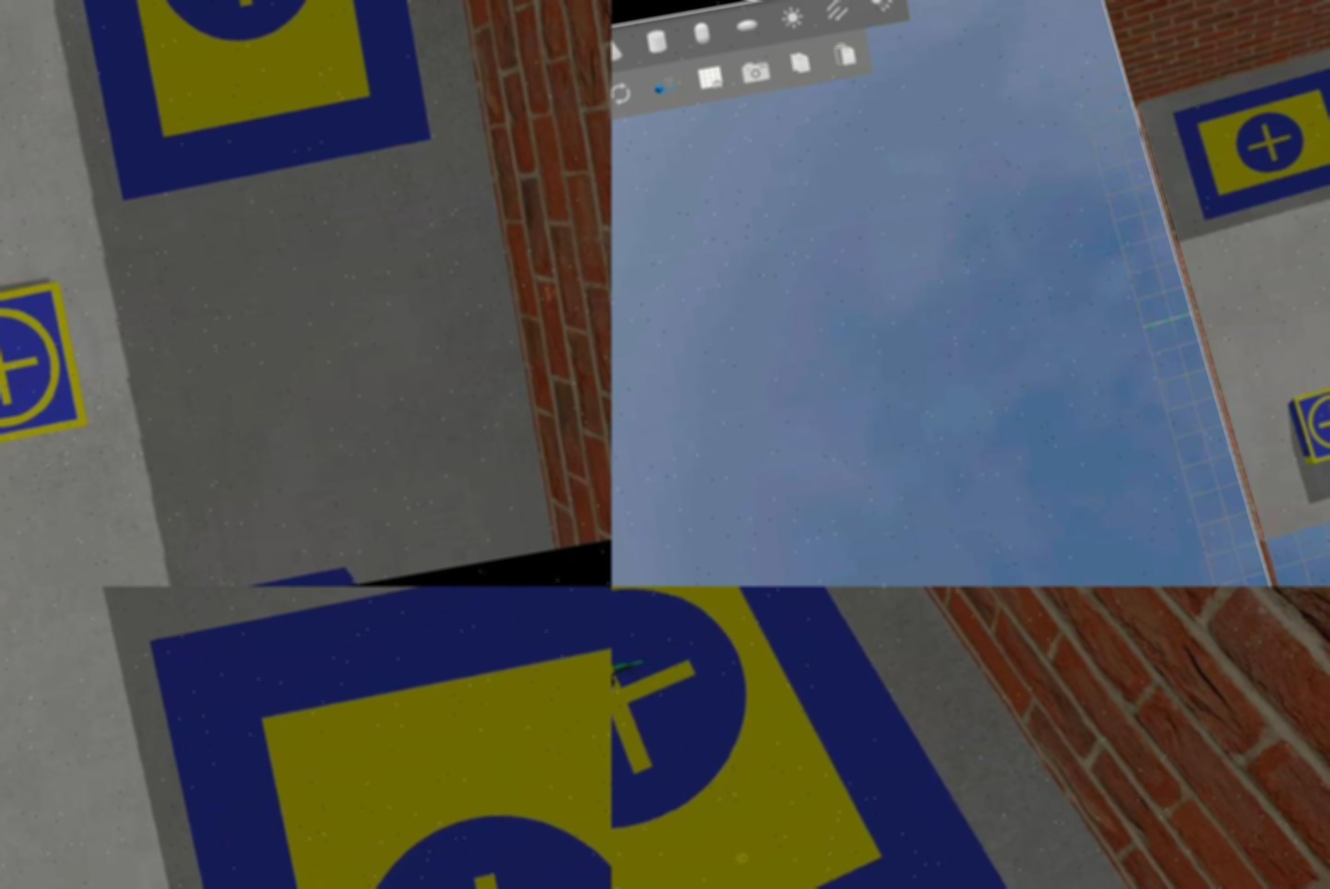large_base: (145, 587, 612, 889), (612, 587, 1048, 889), (62, 1, 435, 202), (1168, 65, 1330, 220)
small_base: (1, 280, 93, 457), (1290, 380, 1330, 468)
